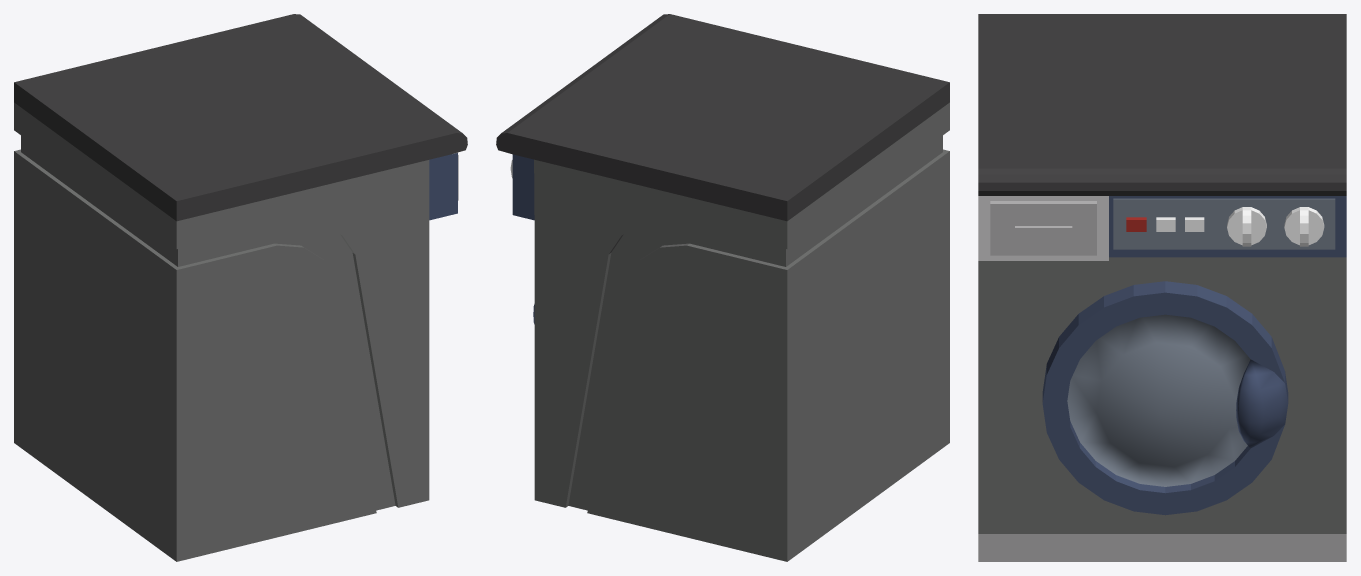
Rendered from SM_WashingMachine_01.glb.
The picture shows the model from 3 angles, left to right: view 1: azimuth 30°, elevation 25°; view 2: azimuth 150°, elevation 25°; view 3: azimuth 270°, elevation 25°; orthographic projection. The views are drawn at different scales.
Visible parts, largest first — view 1: SM_WashingMachine_01; view 2: SM_WashingMachine_01; view 3: SM_WashingMachine_01.
Boxes of the visible parts, left/top/right/bottom form: SM_WashingMachine_01: left=14, top=14, right=467, bottom=561; SM_WashingMachine_01: left=496, top=14, right=949, bottom=561; SM_WashingMachine_01: left=978, top=14, right=1346, bottom=561.
Bounding box in the file's own units: 0.7788 × 0.9148 × 0.7472.
1 material, 1 textured.
